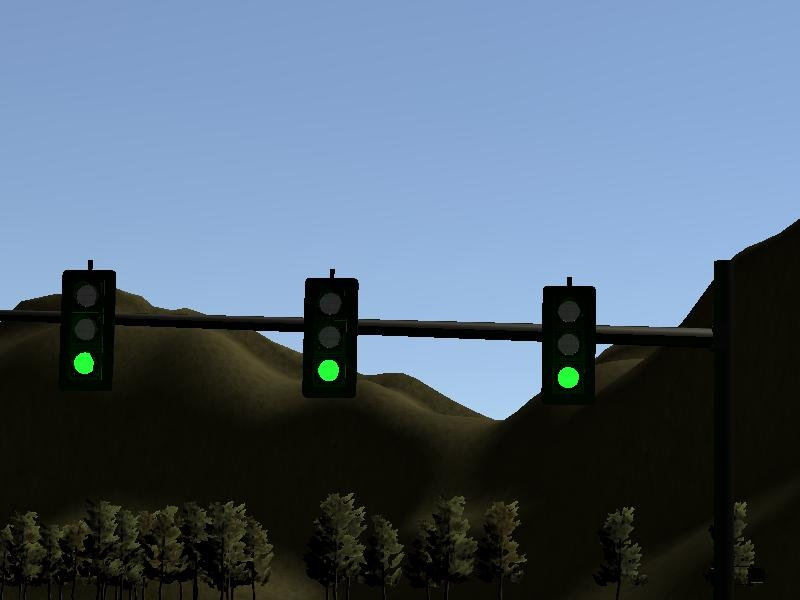GREEN: (302, 276, 357, 401), (542, 286, 597, 411), (63, 269, 117, 388)
